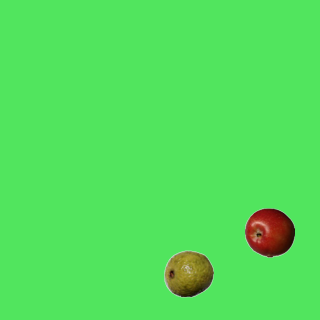Apple Braeburn: (244, 207, 294, 257)
Guava: (163, 248, 213, 298)
